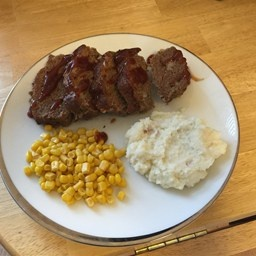background: (9, 17, 90, 83)
